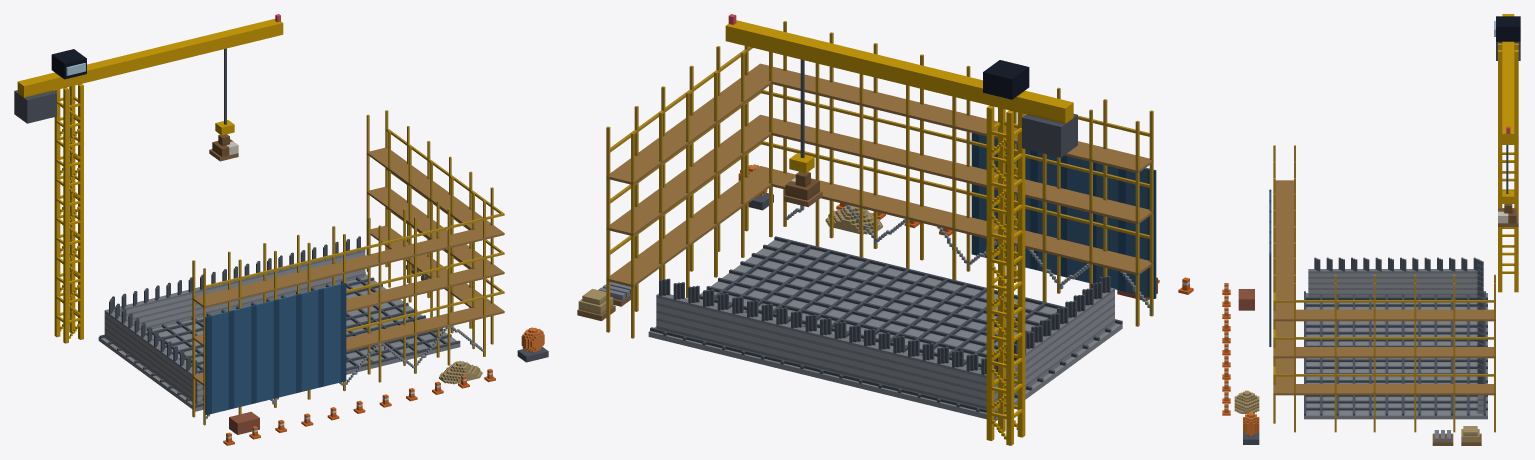
Rendered from factory_scaffold.glb.
3 renders of one model, left to right at view 1: azimuth 30°, elevation 25°; view 2: azimuth 150°, elevation 25°; view 3: azimuth 270°, elevation 25°, orthographic. The views are drawn at different scales.
Visible parts, largest first — view 1: Base; view 2: Base; view 3: Base.
Part boxes in pixels (x1,y1,x2,y2): Base: [14, 14, 548, 445]; Base: [577, 14, 1193, 445]; Base: [1222, 14, 1520, 445].
Size of the model in its own units: 20.9 by 14.4 by 14.6.
